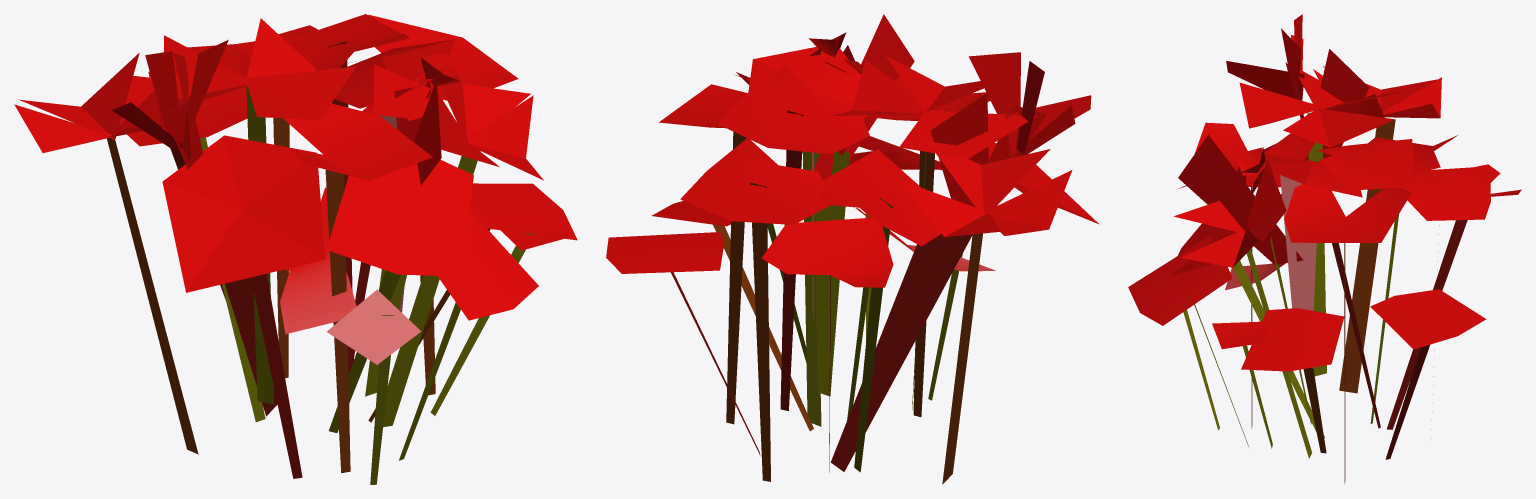
The model's file is Purple_Shamrock_rjrrH_Mid_rjrrH_Oxalis_LOD2.fbx.
The picture shows the model from 3 angles, left to right: view 1: azimuth 30°, elevation 25°; view 2: azimuth 150°, elevation 25°; view 3: azimuth 270°, elevation 25°; orthographic projection. The views are drawn at different scales.
Parts seen in each view (by area): view 1: Oxalis_Var3_LOD3; view 2: Oxalis_Var3_LOD3; view 3: Oxalis_Var3_LOD3.
Boxes of the visible parts, x1,y1,x2,y2 form: Oxalis_Var3_LOD3: (14, 14, 577, 484); Oxalis_Var3_LOD3: (606, 14, 1099, 484); Oxalis_Var3_LOD3: (1128, 14, 1521, 483).
Size of the model in its own units: 26.96 by 24.55 by 24.89.
